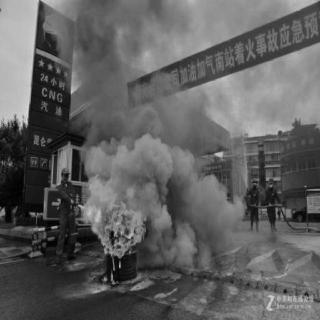Smoke: (93, 13, 199, 183), (147, 142, 233, 268)
other: (27, 2, 65, 200), (204, 25, 288, 73), (55, 165, 79, 253)
